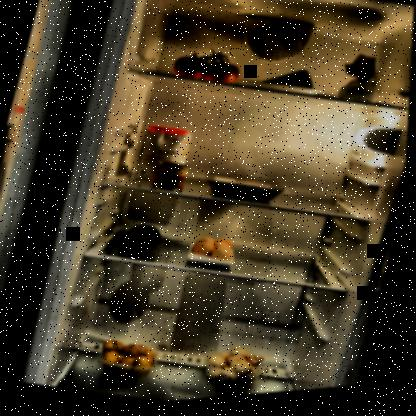apple: (120, 220, 170, 261)
cheese: (260, 67, 322, 101)
corn: (148, 159, 191, 197)
eggs: (189, 234, 244, 271)
mushrooms: (203, 342, 273, 396)
potato: (96, 334, 165, 384)
tomato: (172, 50, 242, 94)
